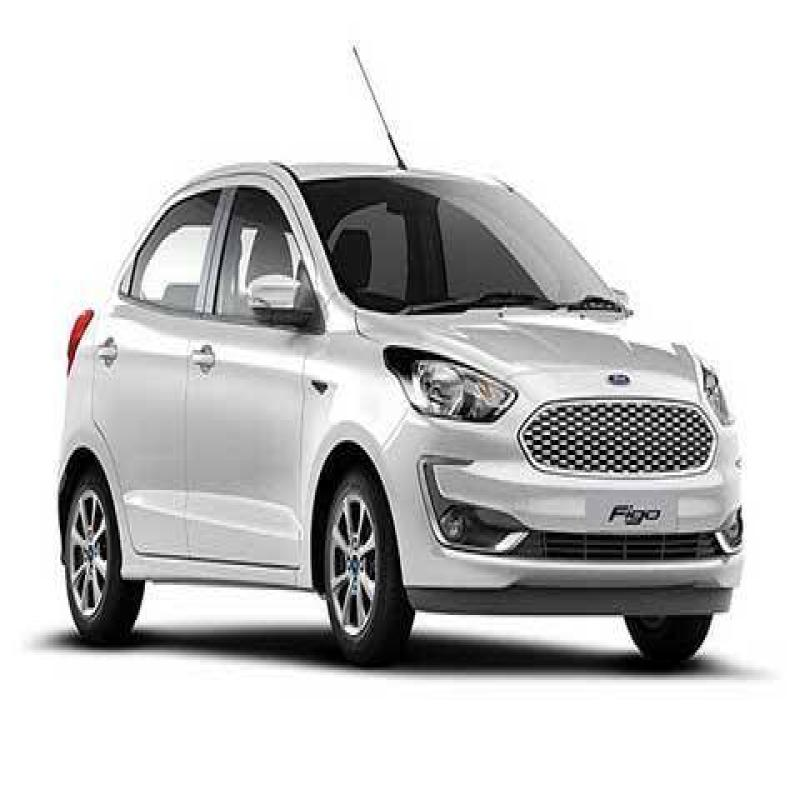car: (49, 148, 759, 665)
